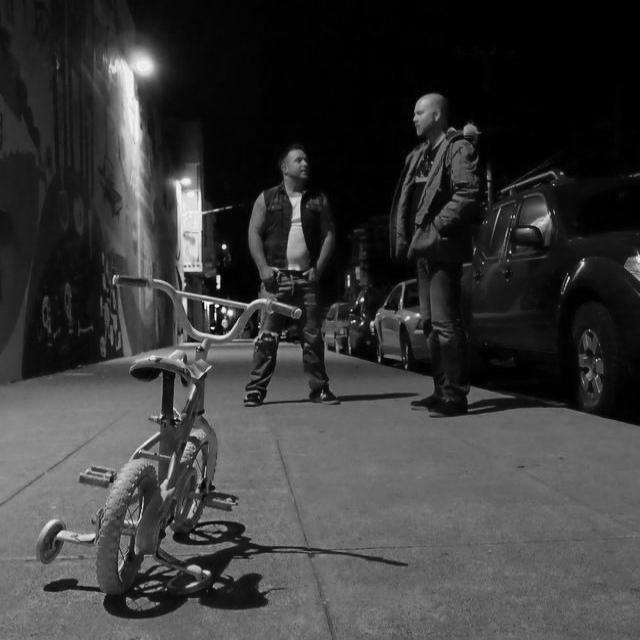vehicle: (460, 170, 638, 418), (373, 275, 430, 372), (347, 286, 393, 358), (321, 301, 358, 352), (287, 319, 299, 343)
